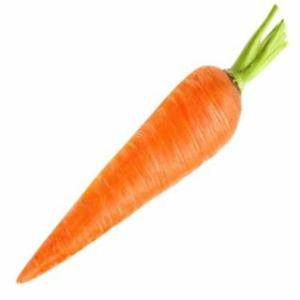carrot: (14, 61, 242, 287)
